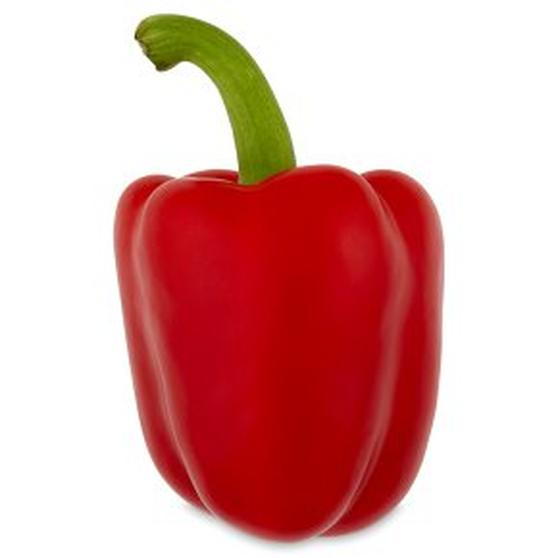pepper: (96, 10, 455, 541)
